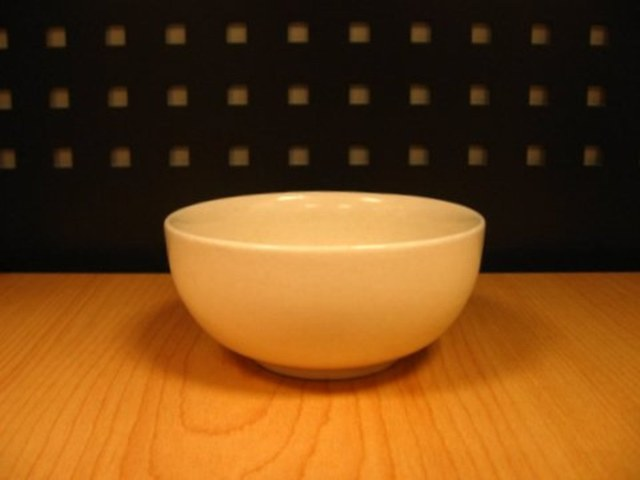bowl: (164, 191, 485, 380)
